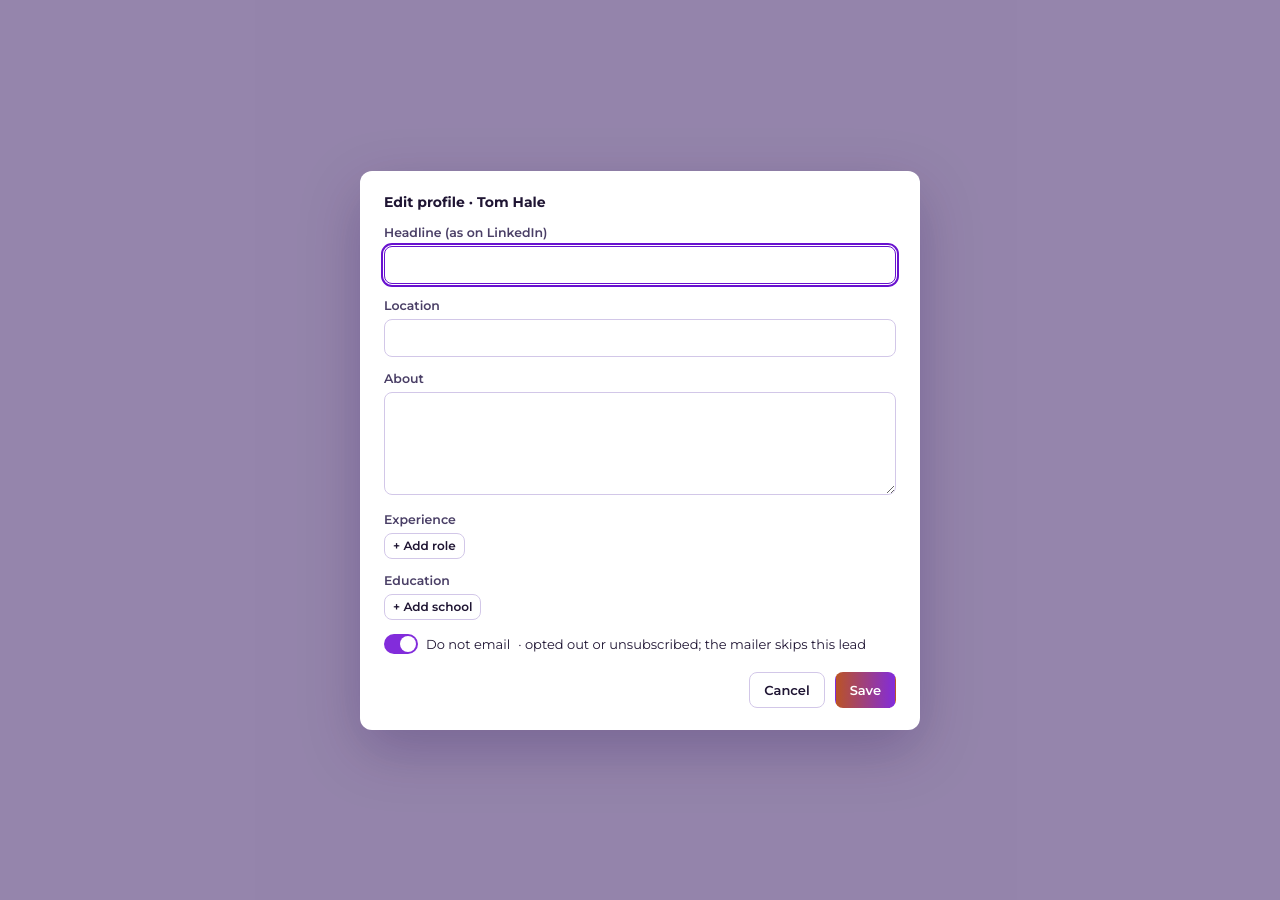
it: Do not email on an address that opted out (suppression list) › a refused untick says to ask an Administrator
Click the checkbox labelled "Do not email" at coordinates (401, 644), box [384,634,418,654]
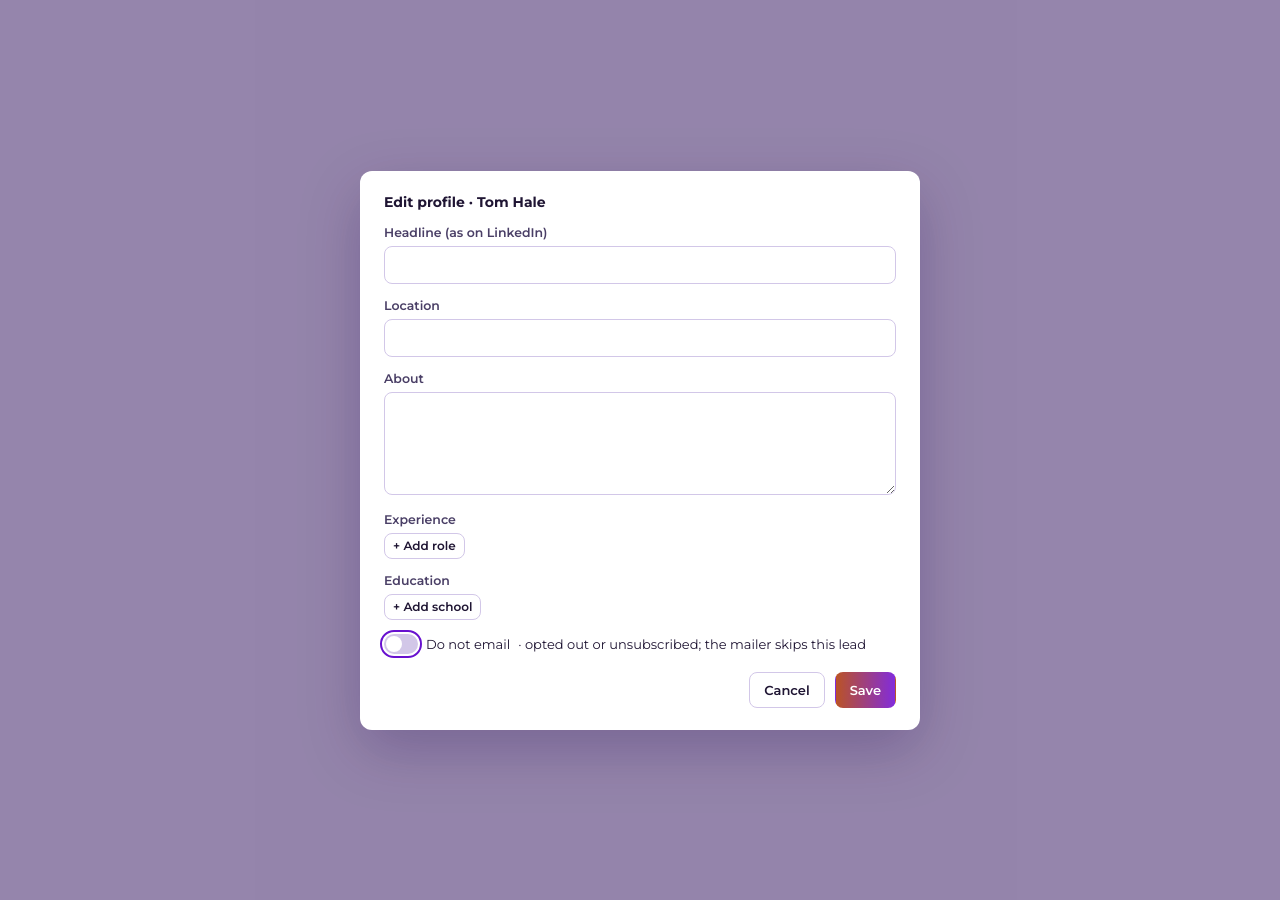
Click the button "Save" at coordinates (865, 690), box [835,672,896,708]
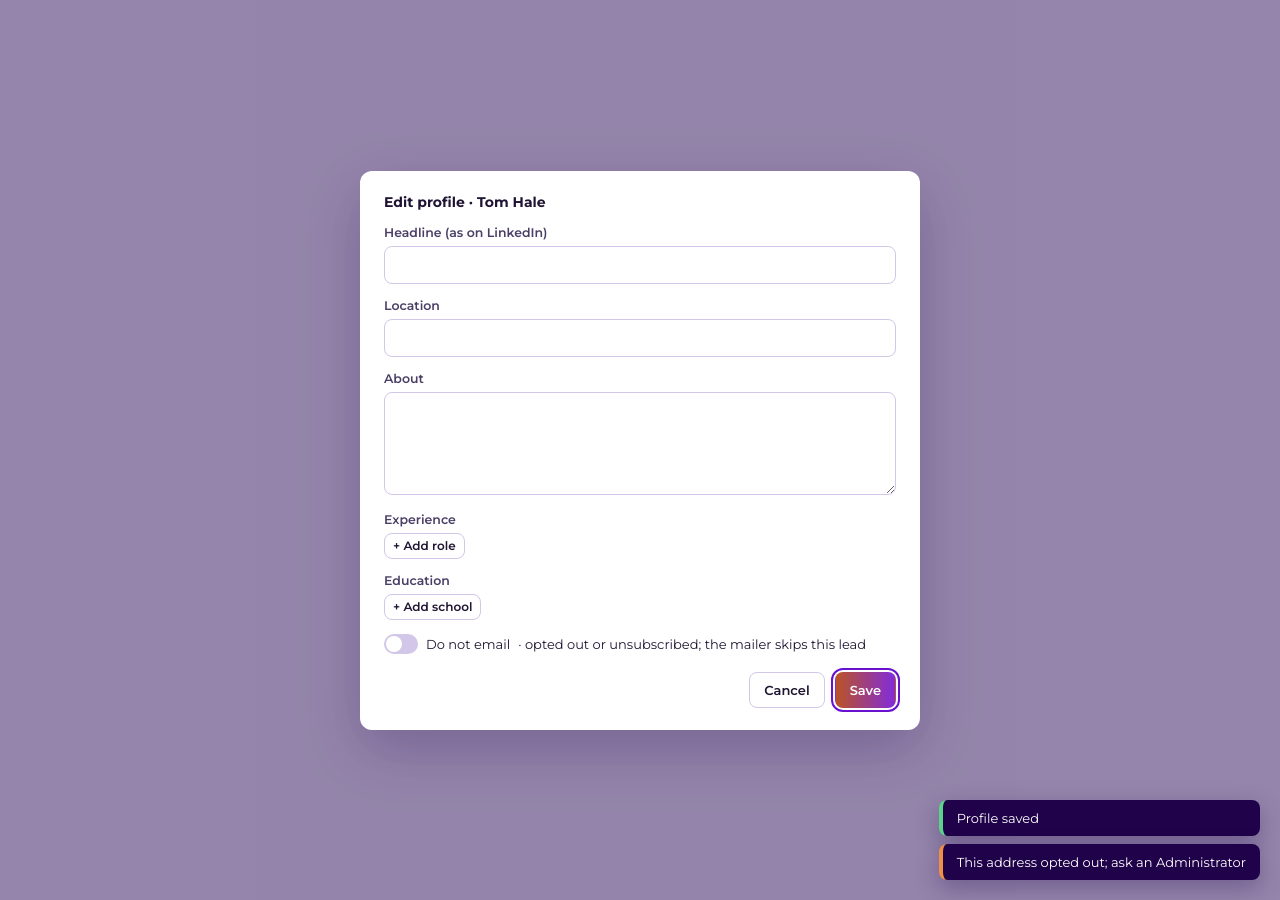
Expected: the text "This address opted out; ask an Administrator" is shown, [939,844,1260,880]
